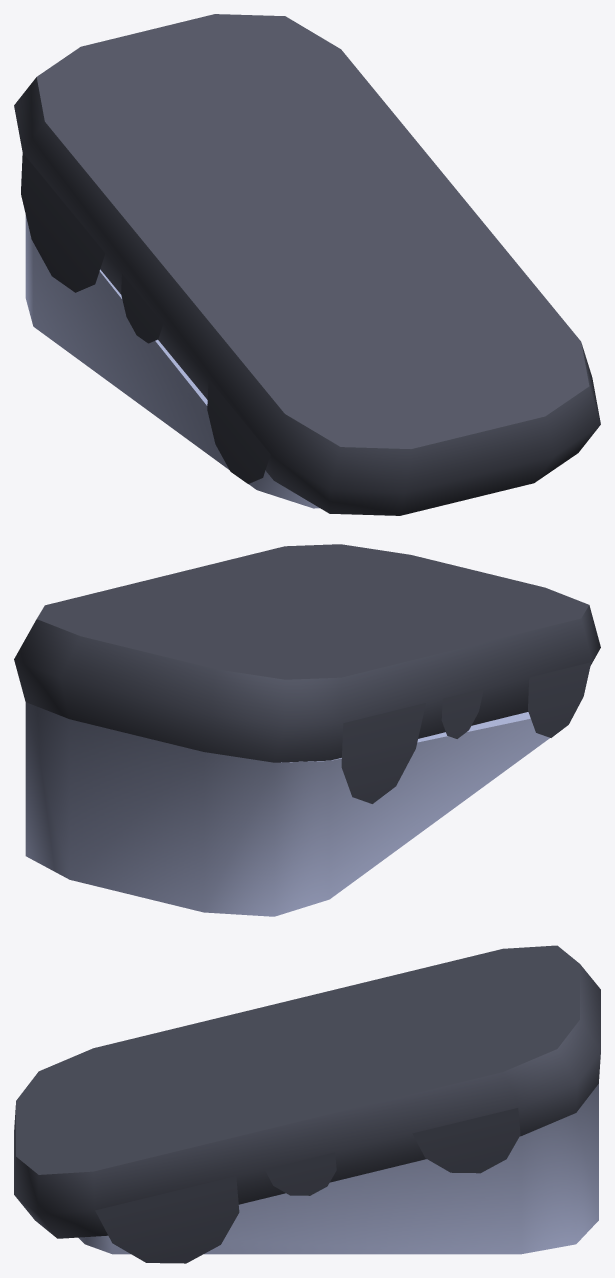
Rendered from block-snow-overhang-large-slope-narrow.glb.
The picture shows the model from 3 angles, top to bottom: view 1: azimuth 30°, elevation 25°; view 2: azimuth 150°, elevation 25°; view 3: azimuth 270°, elevation 25°; orthographic projection. The views are drawn at different scales.
Visible parts, largest first — view 1: block-snow-overhang-large-slope-narrow; view 2: block-snow-overhang-large-slope-narrow; view 3: block-snow-overhang-large-slope-narrow.
Boxes of the visible parts, <box> form: block-snow-overhang-large-slope-narrow: <box>14,14,600,515</box>; block-snow-overhang-large-slope-narrow: <box>14,544,600,916</box>; block-snow-overhang-large-slope-narrow: <box>14,945,600,1263</box>.
Bounding box in the file's own units: 1.08 × 0.7751 × 2.01.
